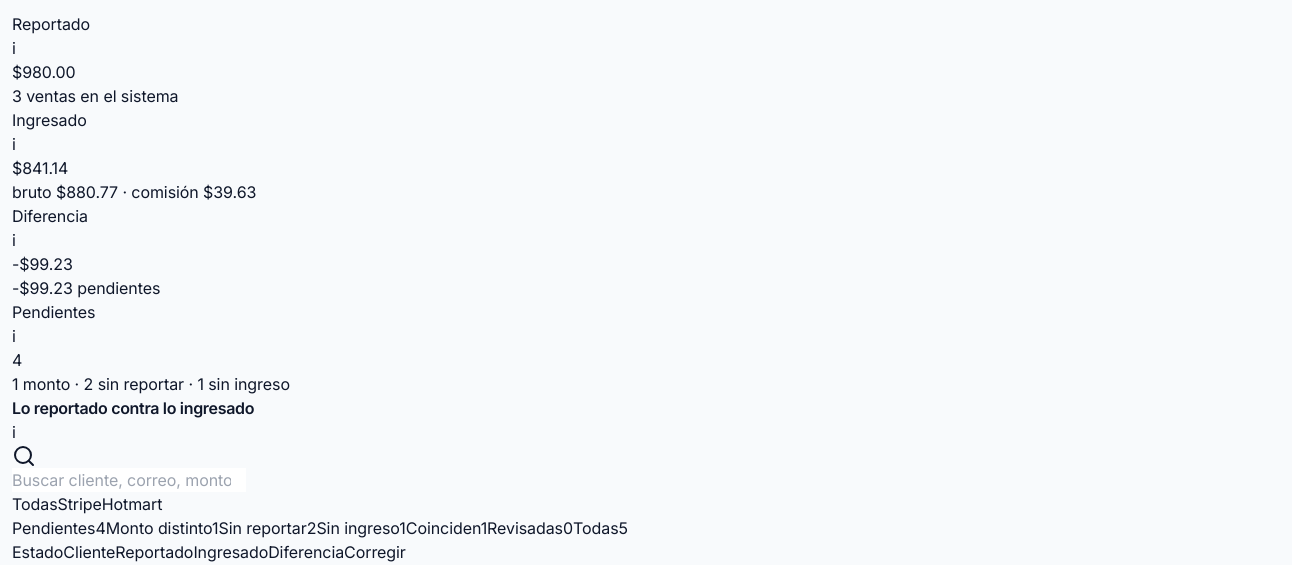
it: Diferencias · KPIs y filtros › arranca en las pendientes; los chips filtran por estado y la pasarela cambia filas y KPIs
Check: the heading "Lo reportado contra lo ingresado" is shown, box [12, 398, 254, 418]
What coordinates should you click on to do the following:
click the tab "Coinciden1"
I would click on:
 (446, 528)
Its box is [406, 516, 487, 540].
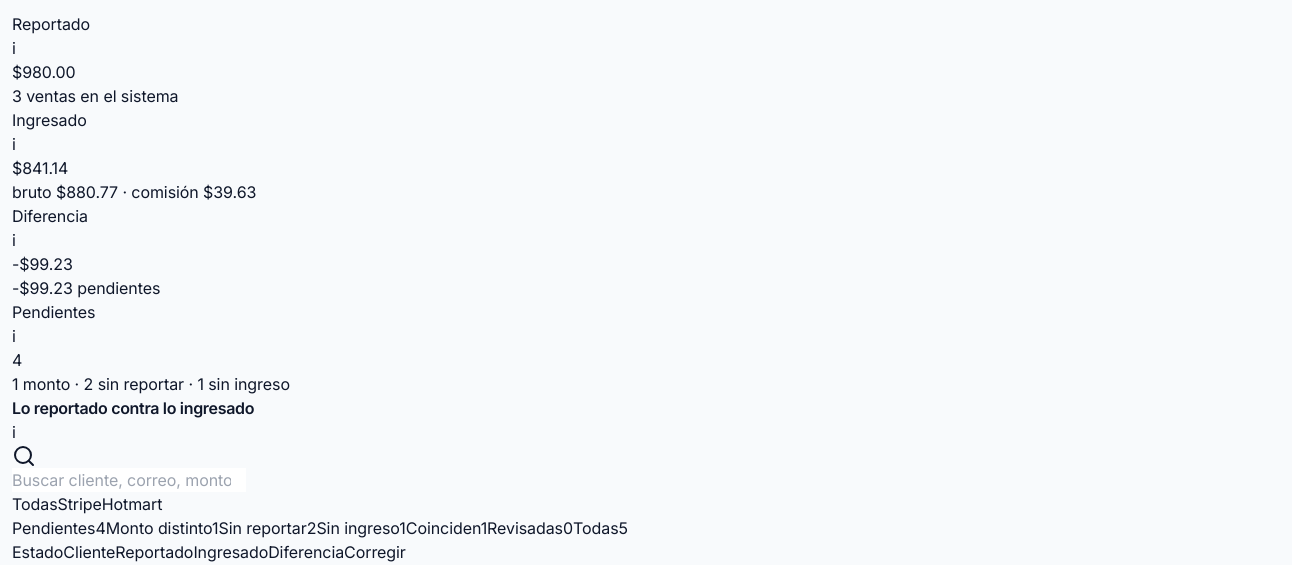
What coordinates should you click on to do the following:
click the tab "Sin reportar2"
I would click on:
 (267, 528)
Its box is [218, 516, 316, 540].
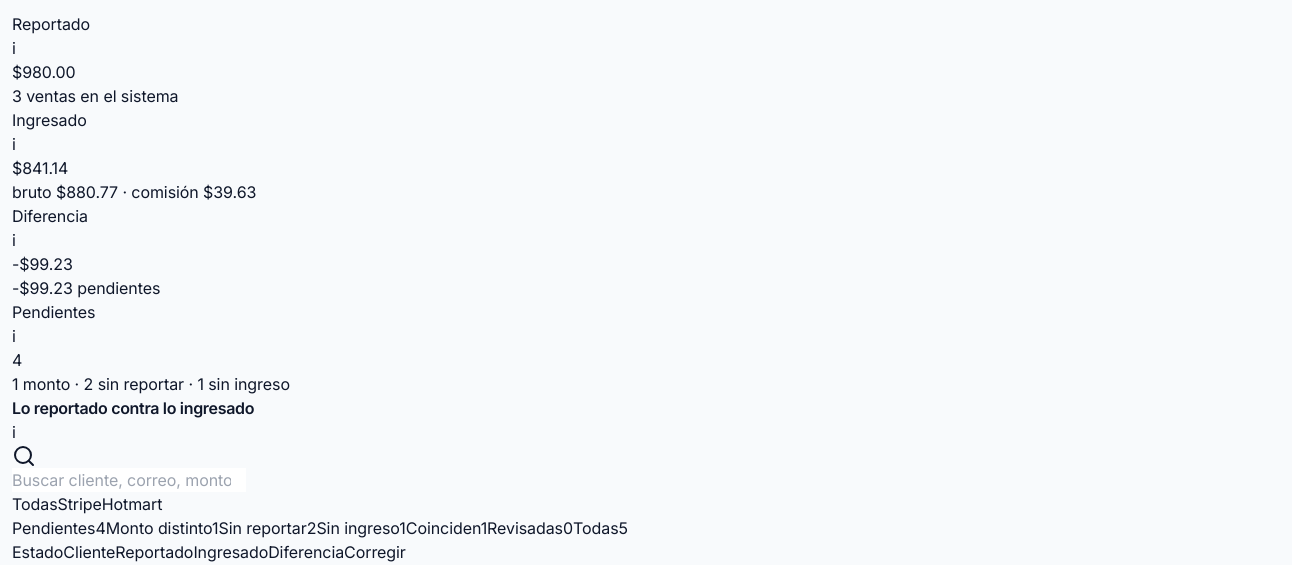
What coordinates should you click on to do the following:
click the tab "Hotmart"
I would click on:
 (132, 504)
Its box is [102, 492, 162, 516].
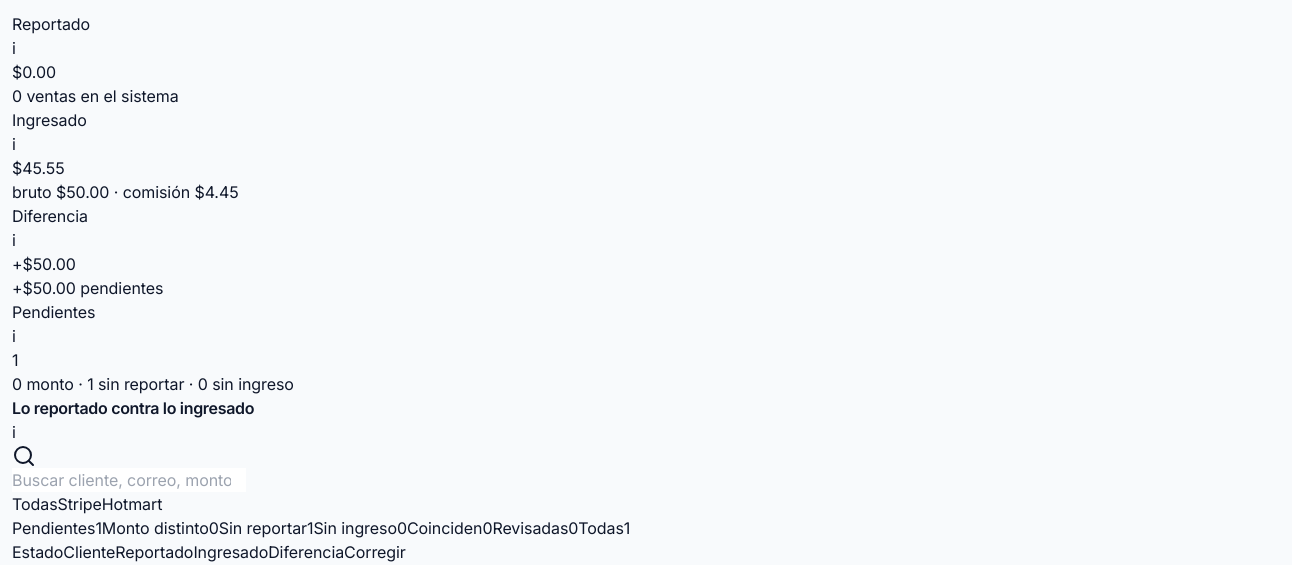
Check: the text with class "kpi-n" reads "$45.55", box [12, 158, 65, 178]
Check: the text with class "kpi-n" below "bruto $50.00 · comisión $4.45" reads "+$50.00", box [12, 254, 76, 274]
